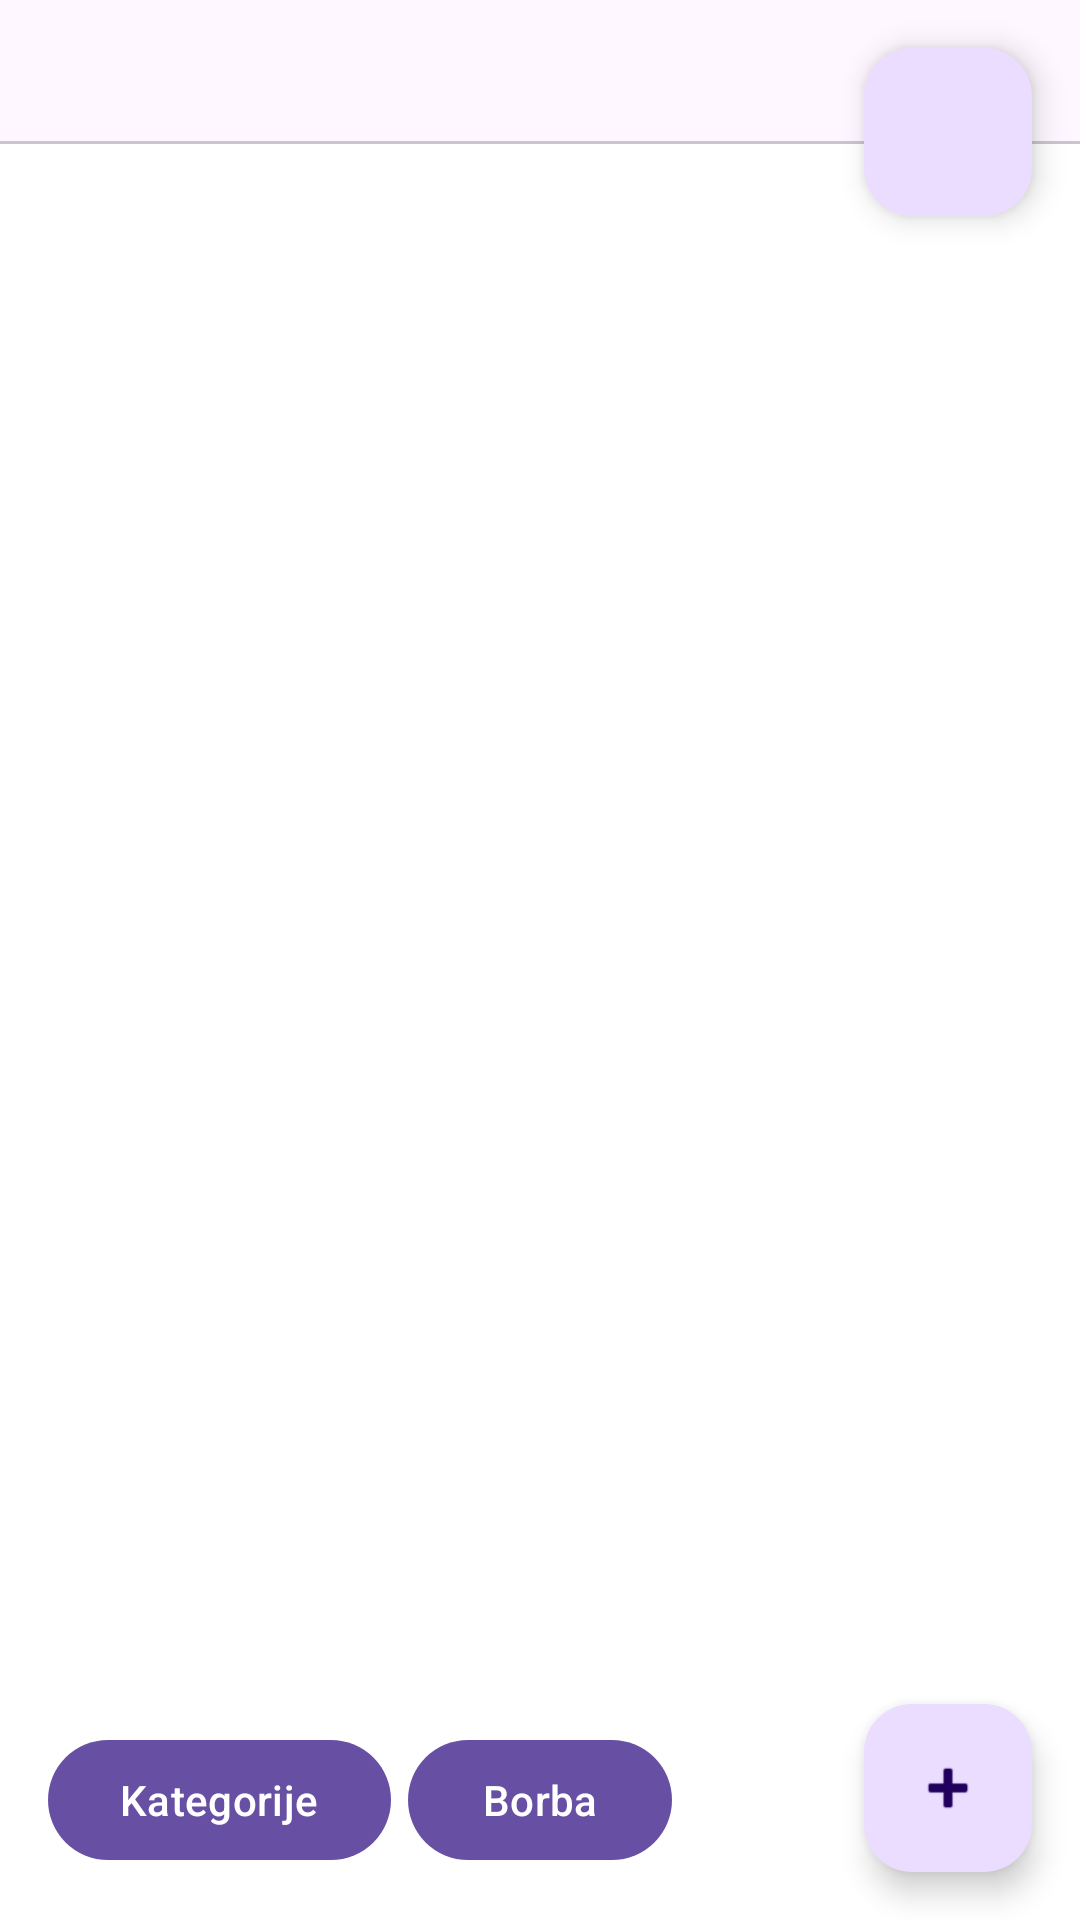

Icon bounding boxes for this 1080w x 1920h phone screenshot, format bbox=(x1, y1, x2, y2):
Dodaj: bbox=(864, 1704, 1032, 1872)
